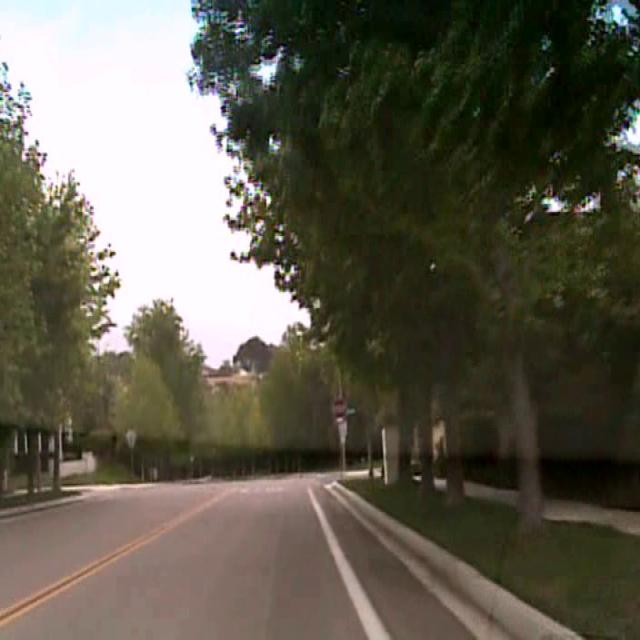stop: (332, 396, 347, 419)
